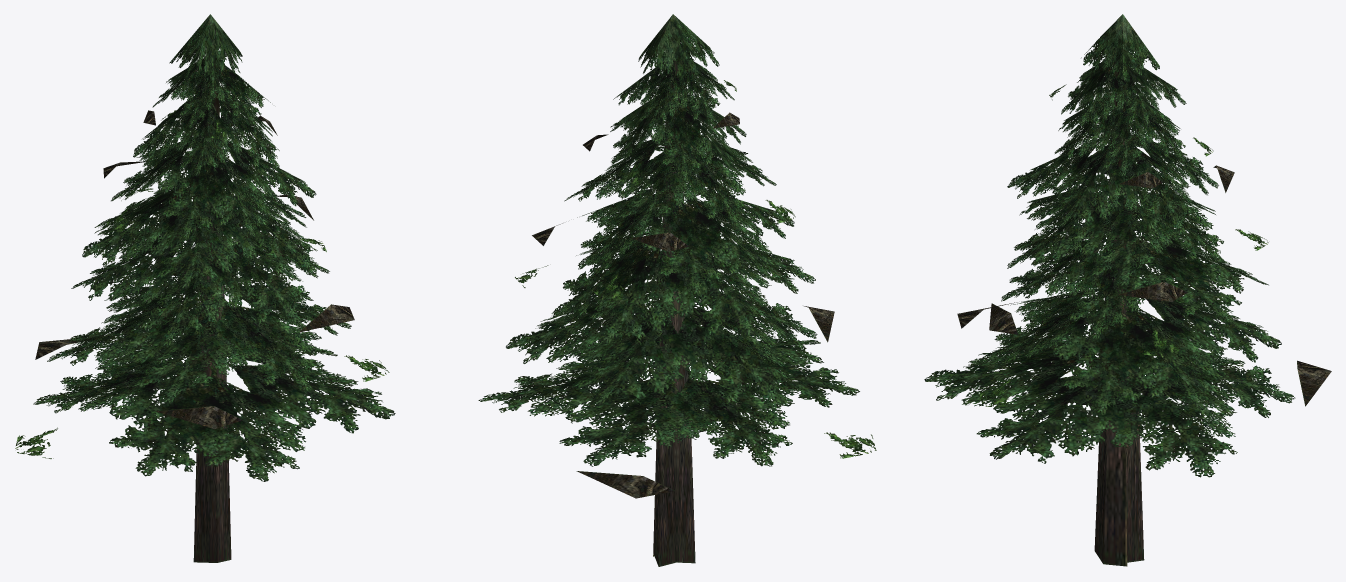
The model's file is tree_pine_02.dae.
3 renders of one model, left to right at view 1: azimuth 30°, elevation 25°; view 2: azimuth 150°, elevation 25°; view 3: azimuth 270°, elevation 25°, orthographic.
Visible parts, largest first — view 1: Object01; view 2: Object01; view 3: Object01.
Boxes of the visible parts, x1,y1,x2,y2 form: Object01: (15,14,395,562); Object01: (478,14,876,566); Object01: (924,14,1331,566).
Bounding box in the file's own units: 16.57 × 17.37 × 24.48.
